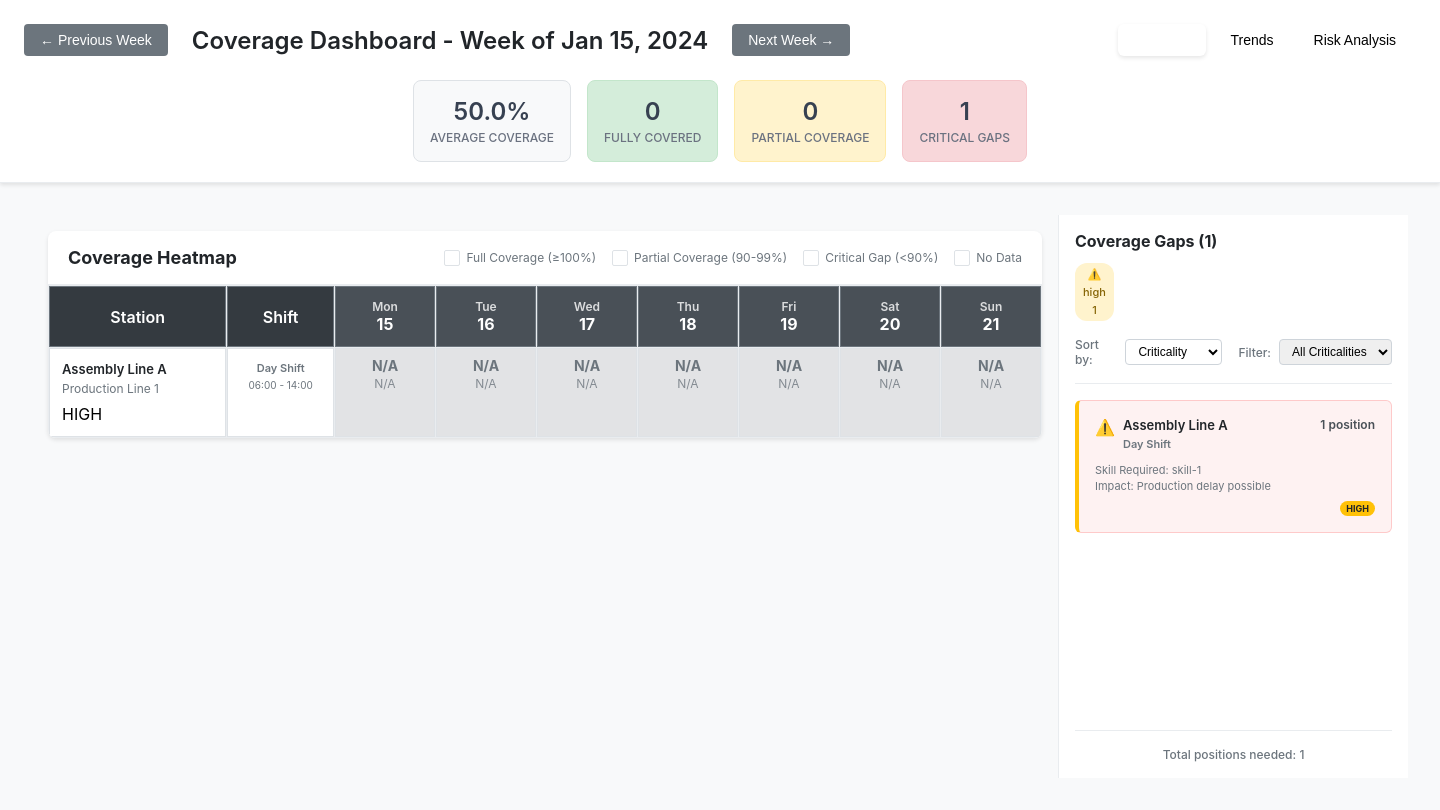
Test: CoverageDashboard › displays historical trends when data is available
Switch to trends view
Step 1. Click the button "Trends" → coordinates (1252, 40), box [1214,24,1290,56]
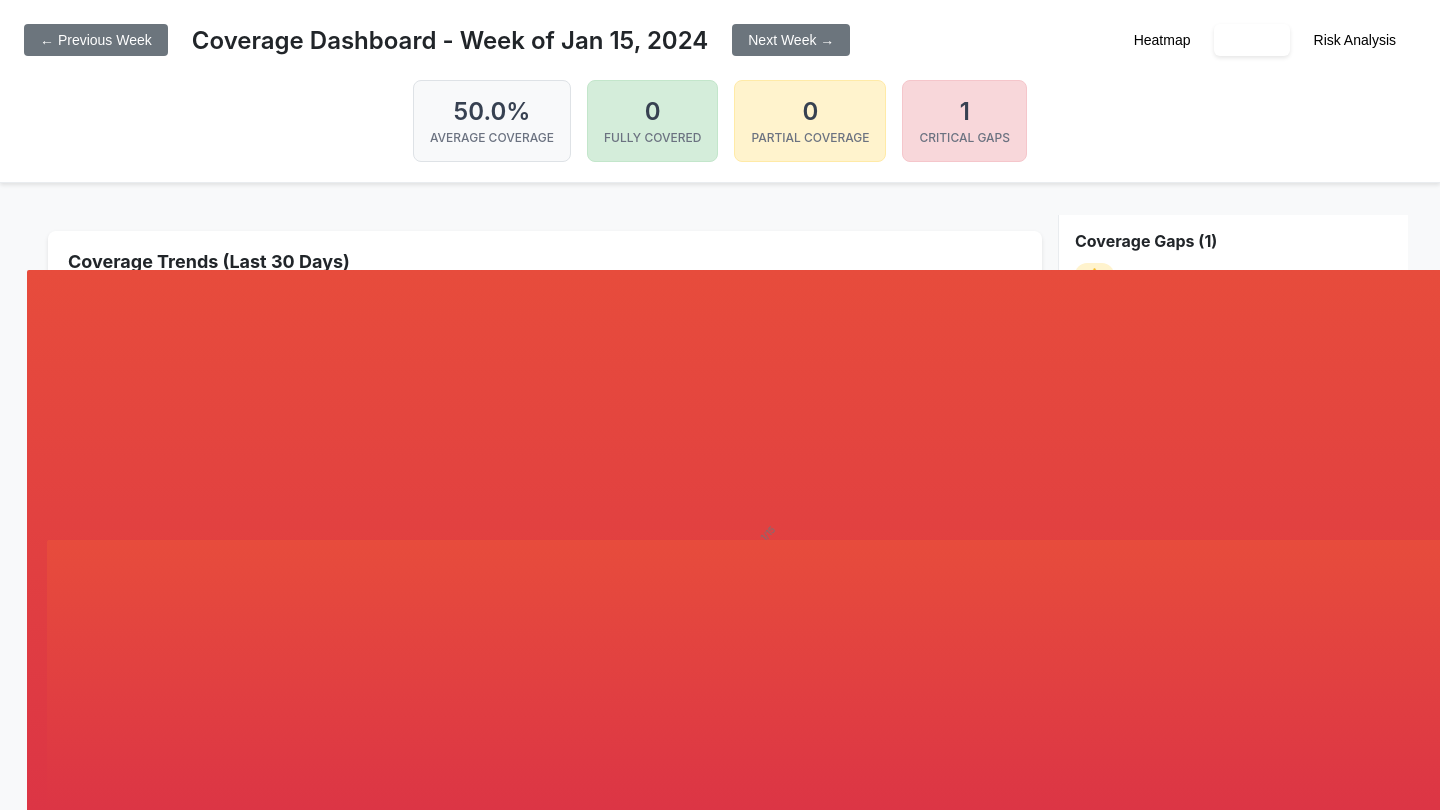
Check: the heading "Coverage Trends (Last 30 Days)" is shown, box [68,251,350,272]
